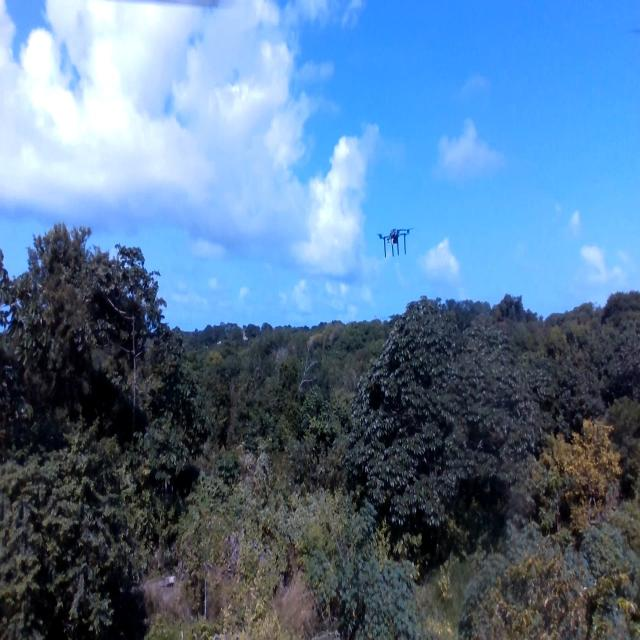-uav-: (372, 216, 418, 266)
